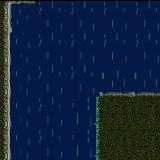Interaction: (0, 0, 19, 160), (19, 0, 43, 17)
Slow: (11, 5, 160, 90), (10, 91, 94, 160)
